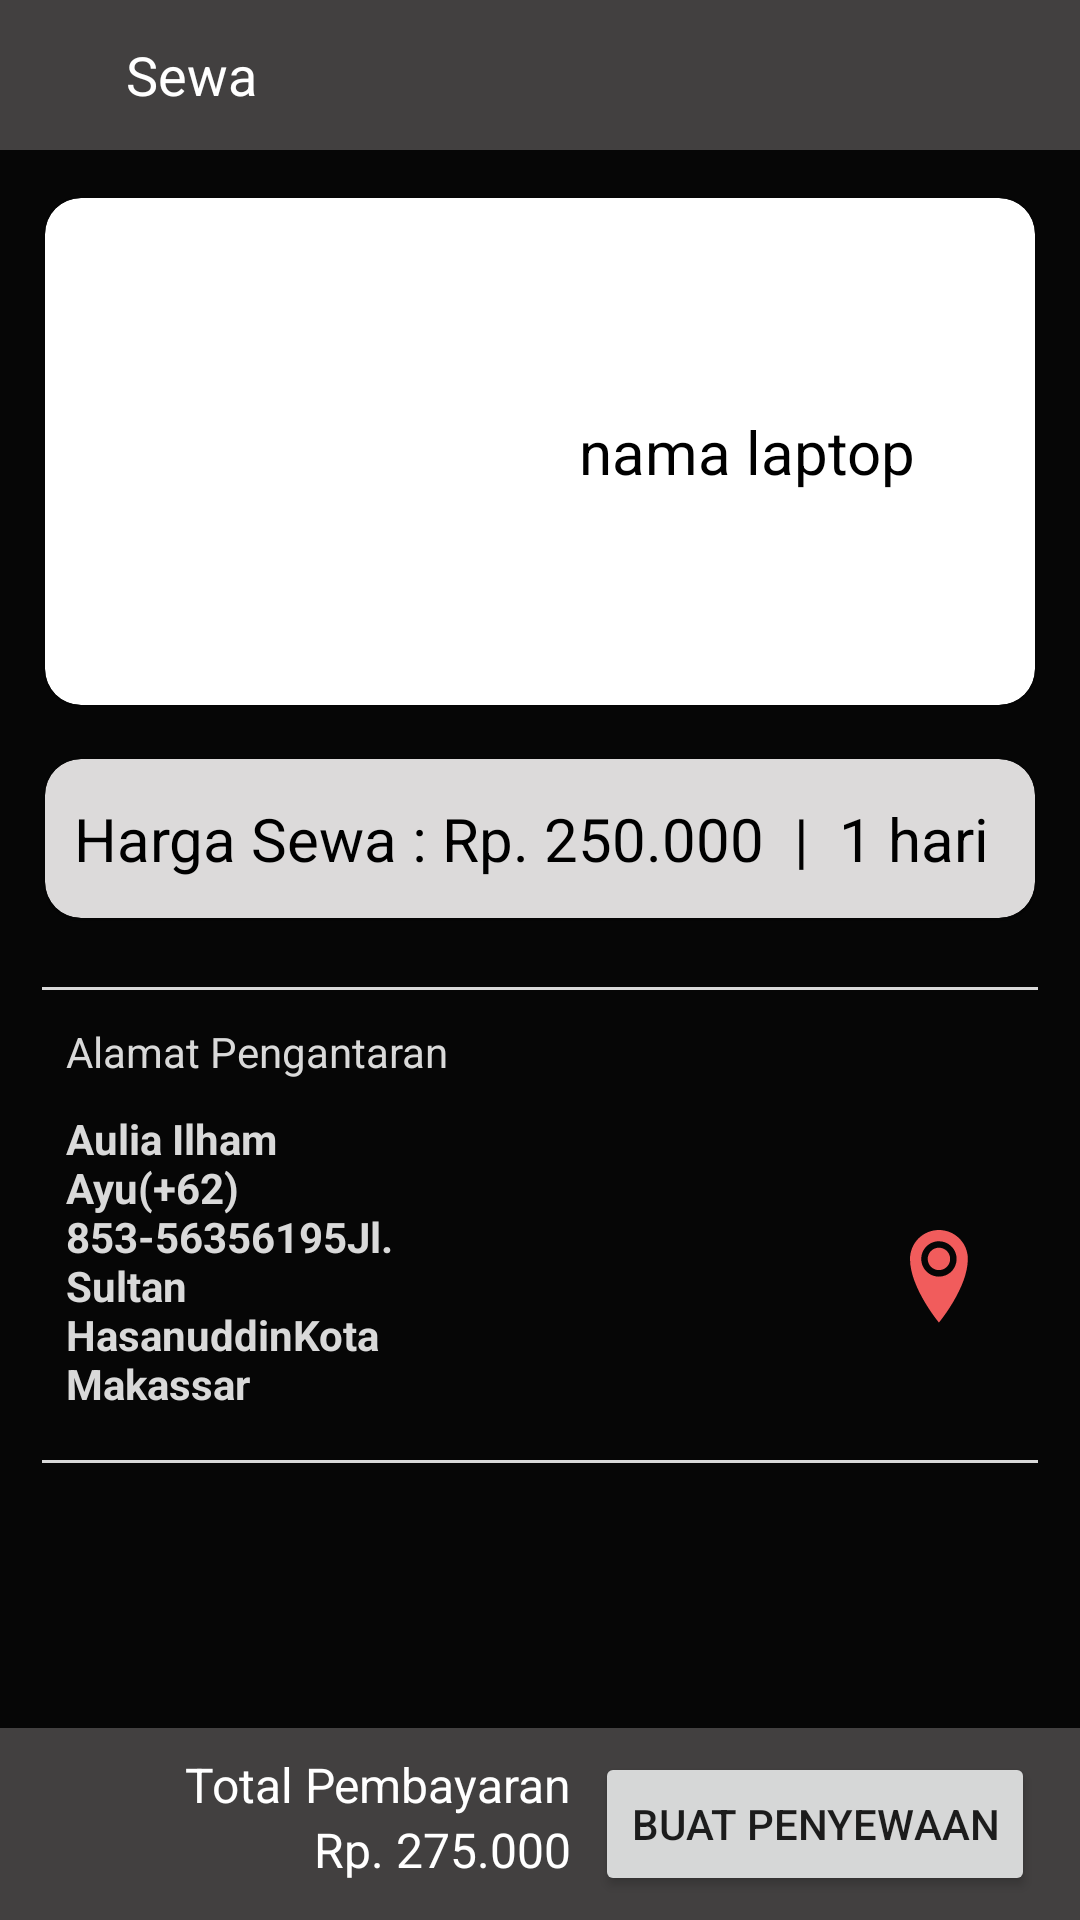

Icon bounding boxes for this 1080px x 1920px phone screenshot, format {"x1": x1, "y1": y1, "x2": x2, "y2": y2}:
lokasi: {"x1": 910, "y1": 1230, "x2": 968, "y2": 1323}
